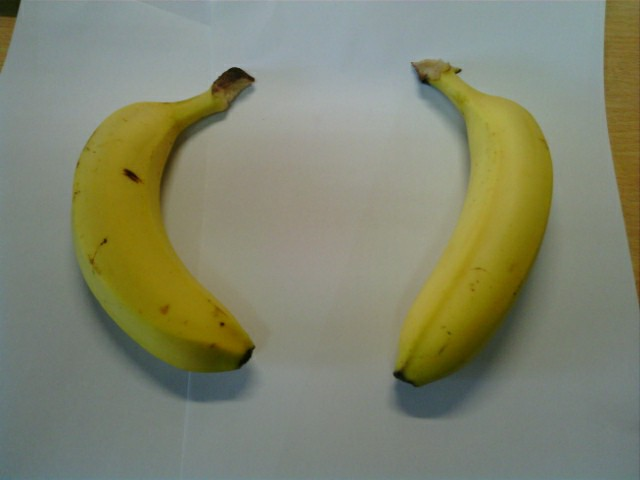fresh_banana: (392, 60, 555, 387)
normal_banana: (71, 79, 255, 372)
